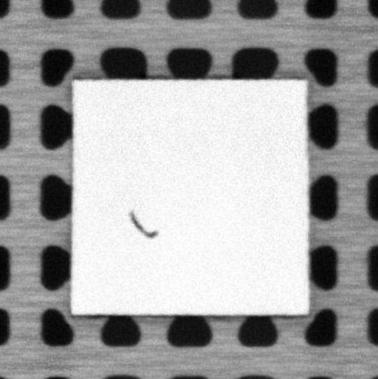DIE_INK: (129, 212, 158, 240)
